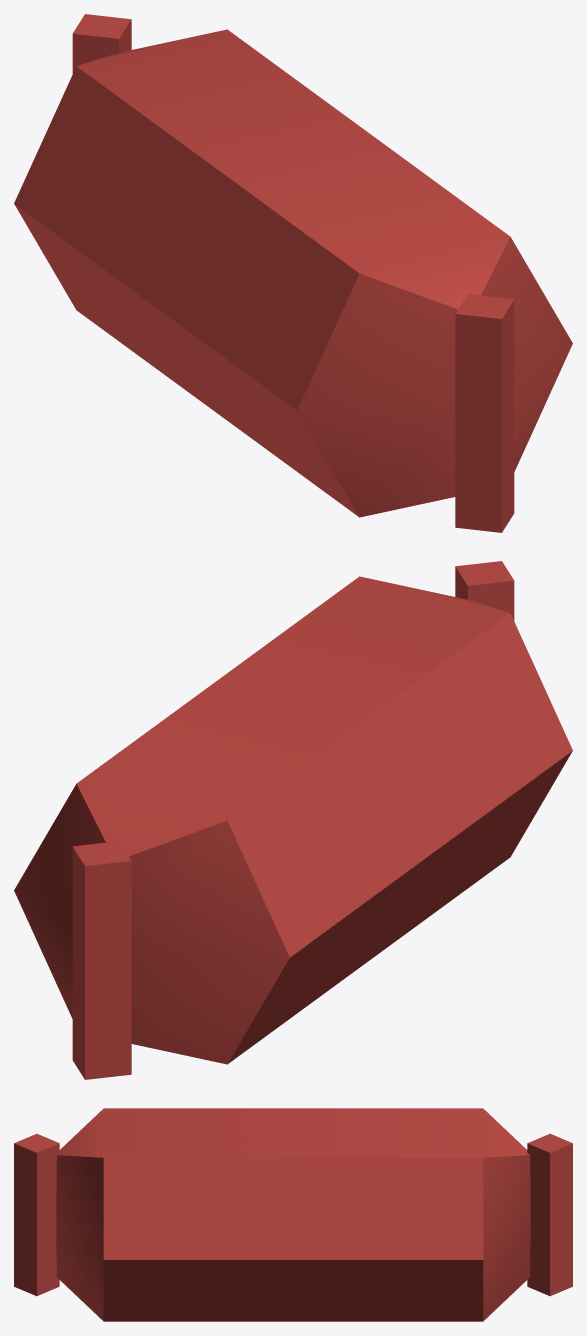
File: roll_bag_lod2.glb
3 renders of one model, top to bottom at view 1: azimuth 30°, elevation 25°; view 2: azimuth 150°, elevation 25°; view 3: azimuth 270°, elevation 25°, orthographic. The views are drawn at different scales.
Parts seen in each view (by area): view 1: roll_bag_lod2; view 2: roll_bag_lod2; view 3: roll_bag_lod2.
Part boxes in pixels (bbox=[...]): roll_bag_lod2: bbox=[14, 14, 572, 532]; roll_bag_lod2: bbox=[14, 561, 572, 1079]; roll_bag_lod2: bbox=[14, 1108, 572, 1321].
Size of the model in its own units: 0.243 by 0.2054 by 0.636.
